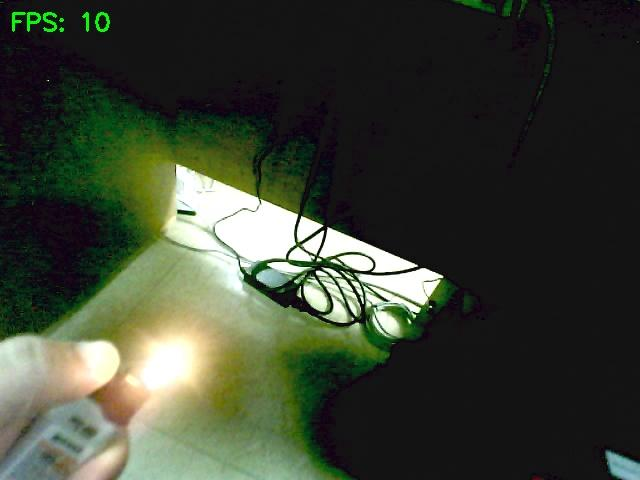fire: (140, 343, 189, 389)
smoke: (137, 340, 193, 390)
